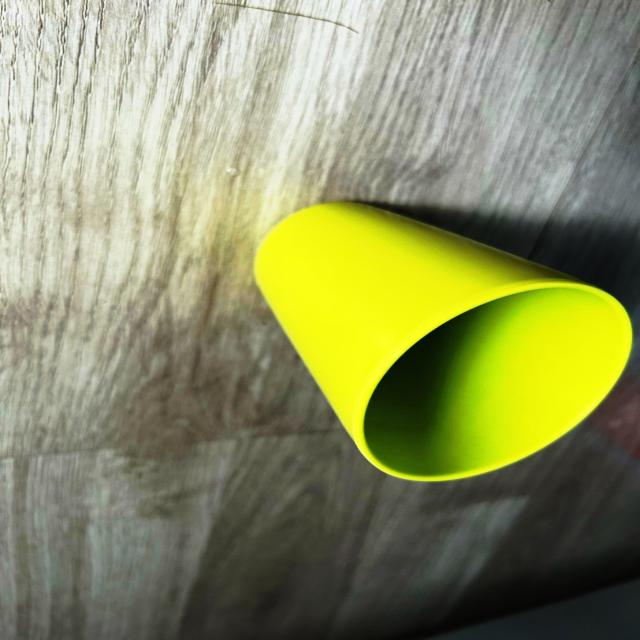WaterGlass: (256, 203, 631, 481)
